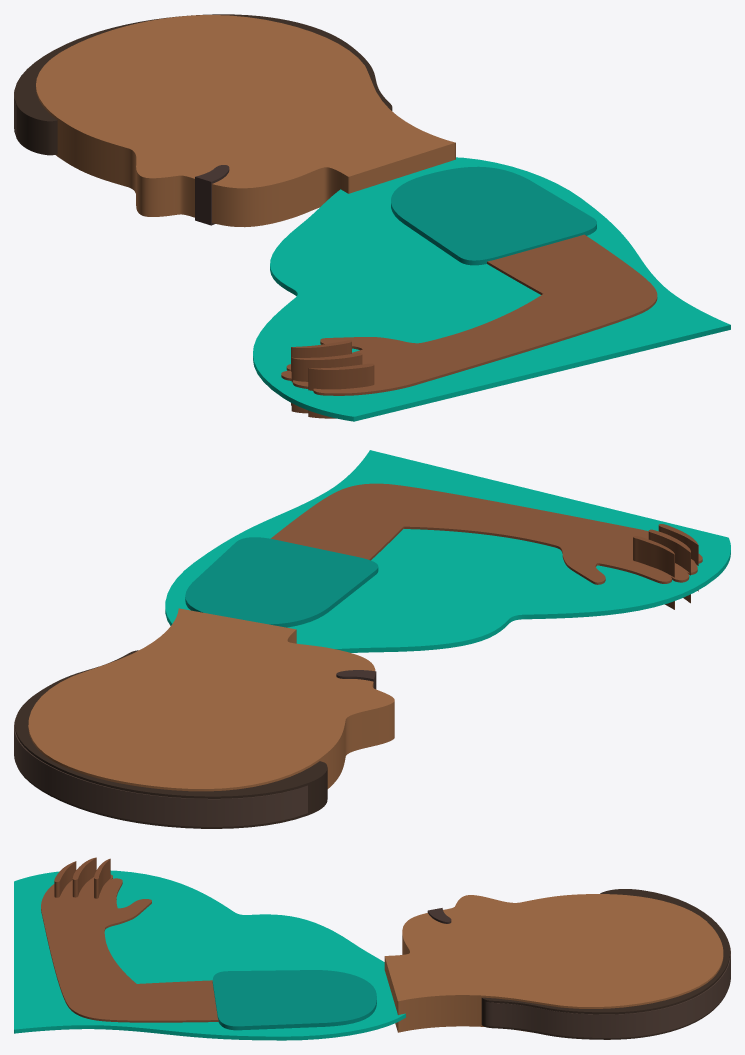
File: emoji_u1fac3_1f3fe.glb
3 renders of one model, top to bottom at view 1: azimuth 30°, elevation 25°; view 2: azimuth 150°, elevation 25°; view 3: azimuth 270°, elevation 25°, orthographic. The views are drawn at different scales.
Parts seen in each view (by area): view 1: emoji_u1fac3_1f3fe; view 2: emoji_u1fac3_1f3fe; view 3: emoji_u1fac3_1f3fe.
Boxes of the visible parts, box(x1,y1,x2,y2) form: emoji_u1fac3_1f3fe: box(14, 14, 730, 421); emoji_u1fac3_1f3fe: box(14, 450, 730, 828); emoji_u1fac3_1f3fe: box(14, 857, 730, 1040).
Size of the model in its own units: 0.0182 by 0.0024 by 0.0332.
